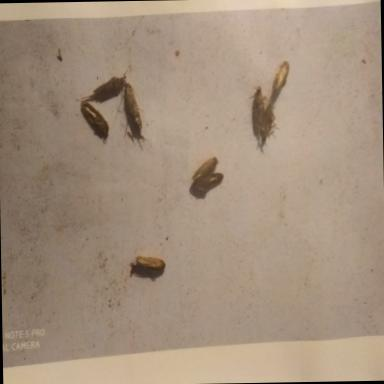pbw: (115, 78, 148, 143), (83, 66, 128, 109), (242, 80, 270, 142), (78, 98, 112, 146), (186, 148, 222, 192), (186, 166, 228, 203), (266, 56, 292, 108), (128, 252, 170, 279)
